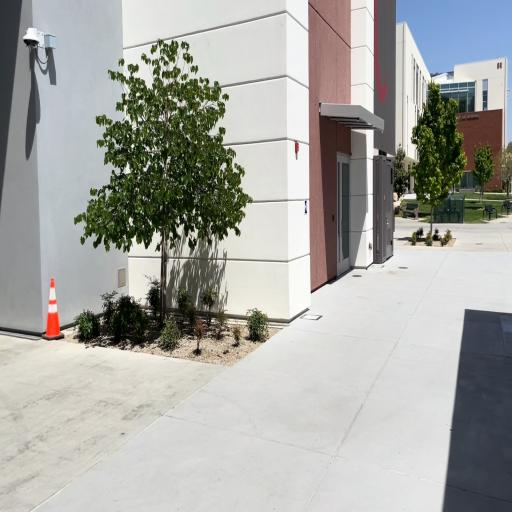target9: (304, 201, 307, 213)
